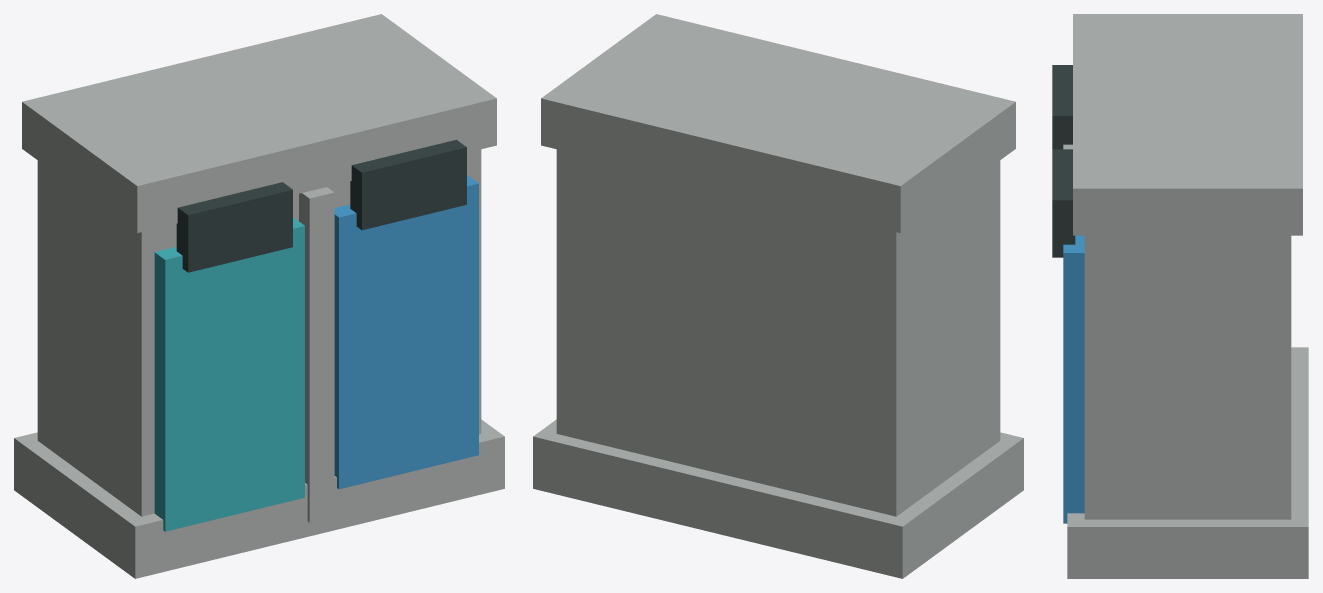
Rendered from shanghai-dual-classification-bin-identity.glb.
The picture shows the model from 3 angles, left to right: view 1: azimuth 30°, elevation 25°; view 2: azimuth 150°, elevation 25°; view 3: azimuth 270°, elevation 25°; orthographic projection.
Visible parts, largest first — view 1: shanghai-dual-classification-bin-stainless-identity, shanghai-dual-classification-bin-teal-identity, shanghai-dual-classification-bin-blue-identity, shanghai-dual-classification-bin-black-identity; view 2: shanghai-dual-classification-bin-stainless-identity; view 3: shanghai-dual-classification-bin-stainless-identity, shanghai-dual-classification-bin-blue-identity, shanghai-dual-classification-bin-black-identity.
Part boxes in pixels (bbox=[...]): shanghai-dual-classification-bin-stainless-identity: bbox=[14, 14, 504, 578]; shanghai-dual-classification-bin-teal-identity: bbox=[154, 218, 304, 531]; shanghai-dual-classification-bin-blue-identity: bbox=[334, 175, 478, 489]; shanghai-dual-classification-bin-black-identity: bbox=[176, 139, 466, 272]; shanghai-dual-classification-bin-stainless-identity: bbox=[533, 14, 1023, 578]; shanghai-dual-classification-bin-stainless-identity: bbox=[1063, 14, 1308, 578]; shanghai-dual-classification-bin-blue-identity: bbox=[1063, 235, 1084, 523]; shanghai-dual-classification-bin-black-identity: bbox=[1052, 65, 1075, 257].
Bounding box in the file's own units: 0.37 × 0.3725 × 0.223.
